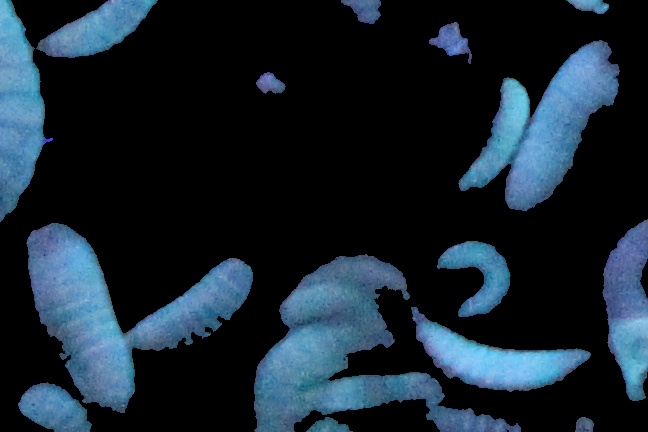larvae: (22, 215, 134, 419), (505, 39, 632, 213), (125, 253, 256, 355), (408, 319, 590, 390), (1, 1, 47, 232), (49, 1, 193, 66), (459, 78, 530, 208), (302, 247, 419, 314), (293, 367, 444, 412), (432, 243, 517, 316), (272, 273, 375, 323)
